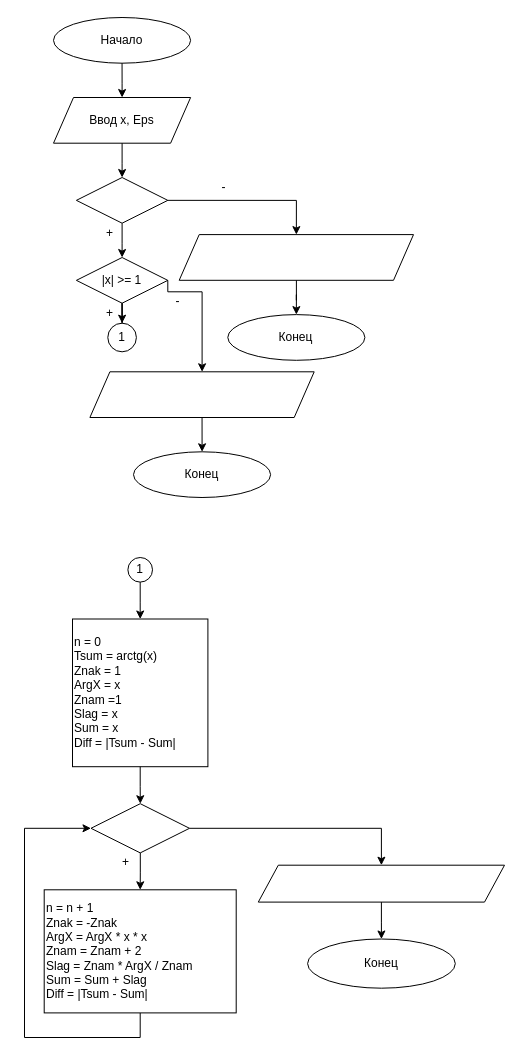
This 522x1063 diagram has some shape labels left out. Each missing label, with the centre of its shape:
Diff > Eps: point (140, 828)
Eps <= 0: point (121, 199)
Вывод "Eps должен быть больше 0!": point (296, 257)
Вывод "|x| должен быть меньше 1!": point (201, 394)
Вывод n, Tsum, Sum, Diff, Eps: point (380, 883)
